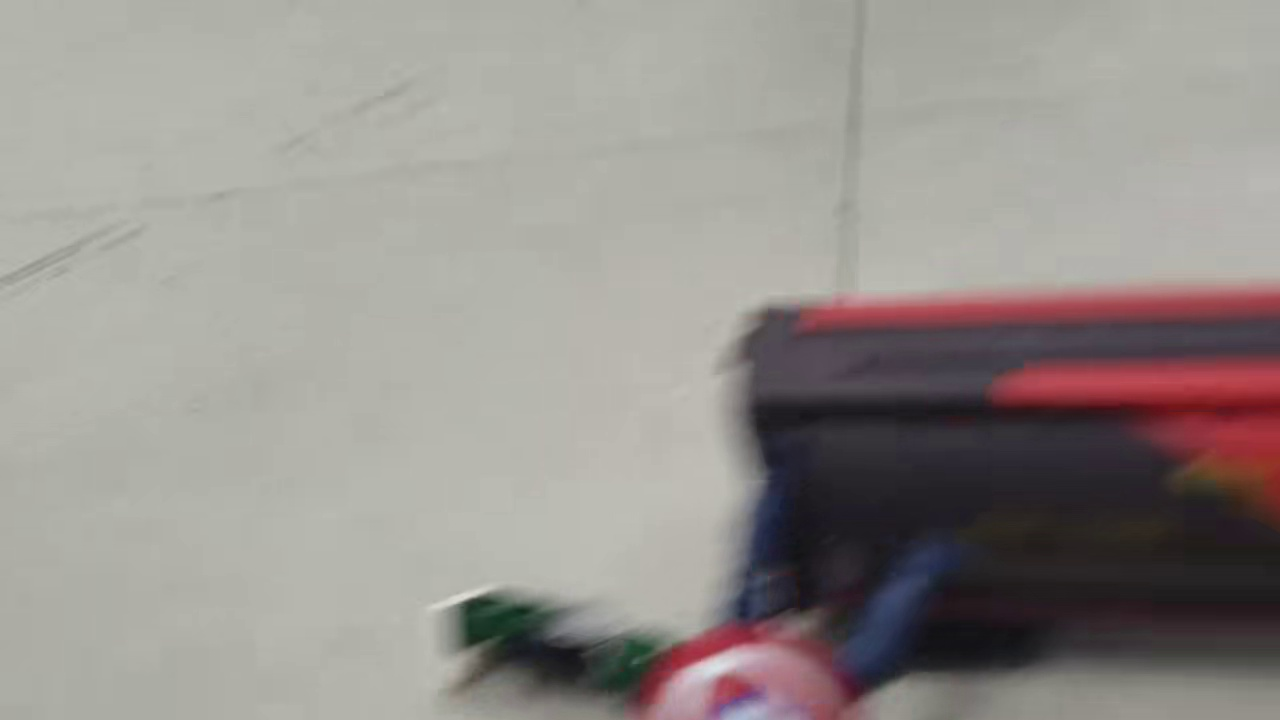people: (641, 425, 978, 720), (429, 582, 681, 693)
